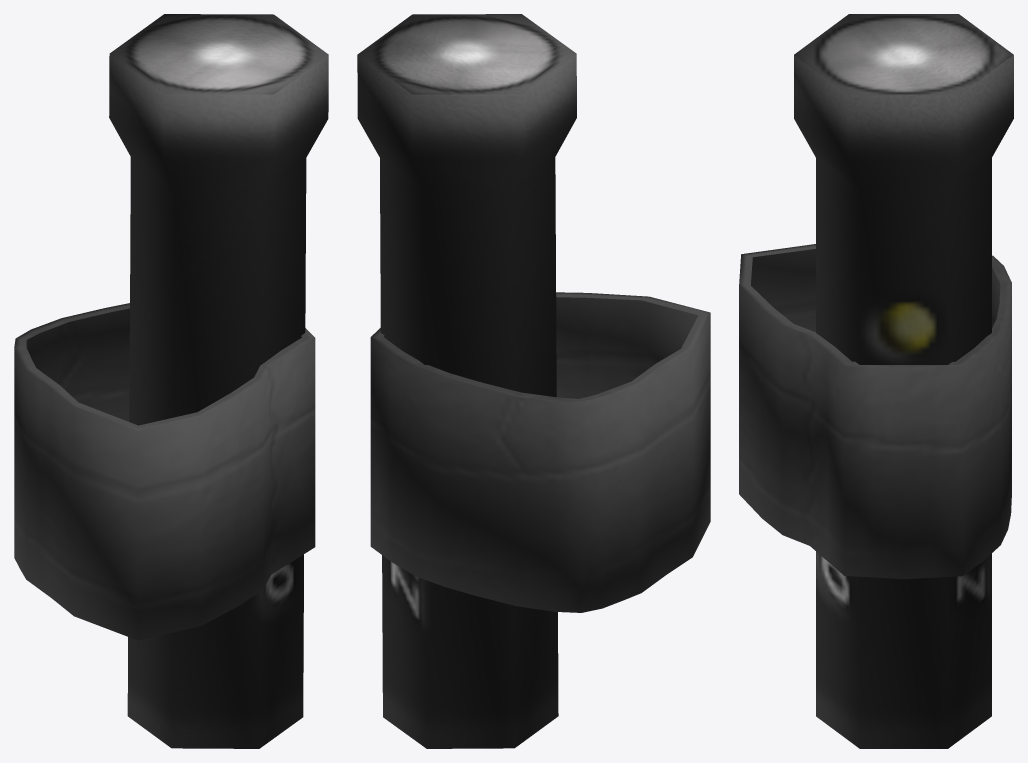
Rendered from TLOG_WeaponFlashlightShorty.fbx.
3 views of the same model, side by side, from view 1: azimuth 30°, elevation 25°; view 2: azimuth 150°, elevation 25°; view 3: azimuth 270°, elevation 25° (orthographic).
Parts seen in each view (by area): view 1: FlashlightShorty; view 2: FlashlightShorty; view 3: FlashlightShorty.
Boxes of the visible parts, x1,y1,x2,y2 form: FlashlightShorty: [14, 14, 328, 748]; FlashlightShorty: [357, 14, 710, 748]; FlashlightShorty: [739, 14, 1013, 748].
Size of the model in its own units: 0.0569 by 0.1384 by 0.0505.
